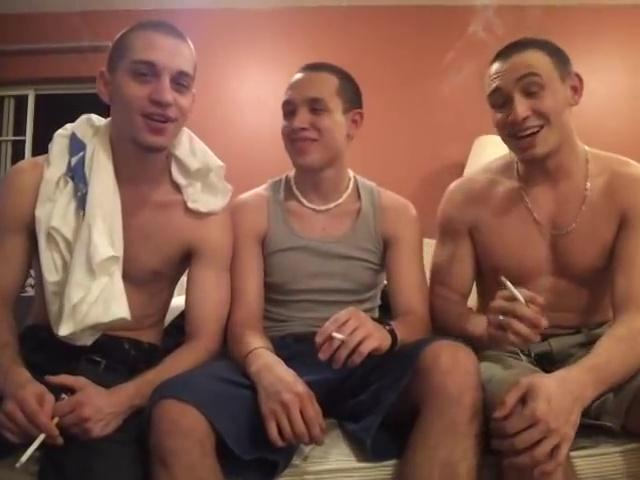cigarette: (13, 414, 61, 469), (499, 273, 530, 309), (330, 332, 349, 343)
